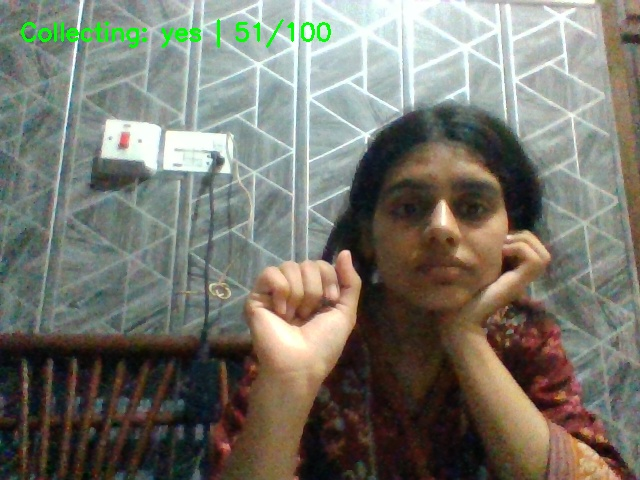yes: (235, 240, 370, 407)
